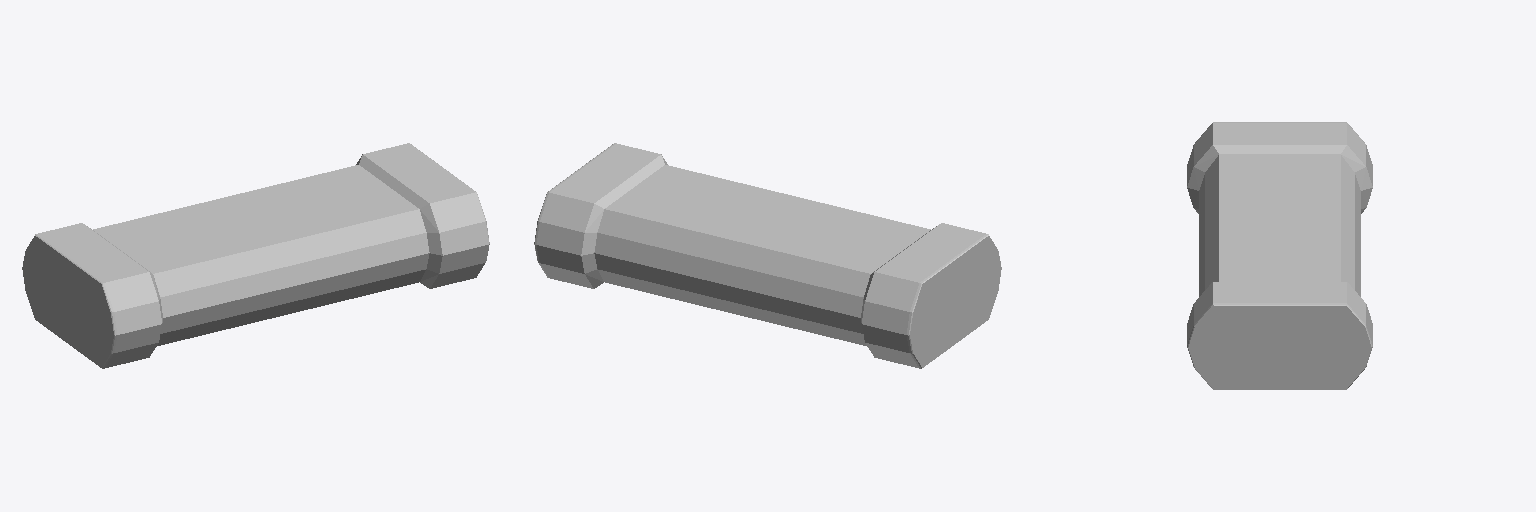
Rendered from couch_cushion.obj.
3 renders of one model, left to right at view 1: azimuth 30°, elevation 25°; view 2: azimuth 150°, elevation 25°; view 3: azimuth 270°, elevation 25°, orthographic.
Visible parts, largest first — view 1: Cube_Cube.006; view 2: Cube_Cube.006; view 3: Cube_Cube.006.
Boxes of the visible parts, <box> form: Cube_Cube.006: <box>22,143,489,368</box>; Cube_Cube.006: <box>534,143,1001,368</box>; Cube_Cube.006: <box>1187,122,1372,389</box>.
Size of the model in its own units: 5.36 by 1.17 by 2.3.